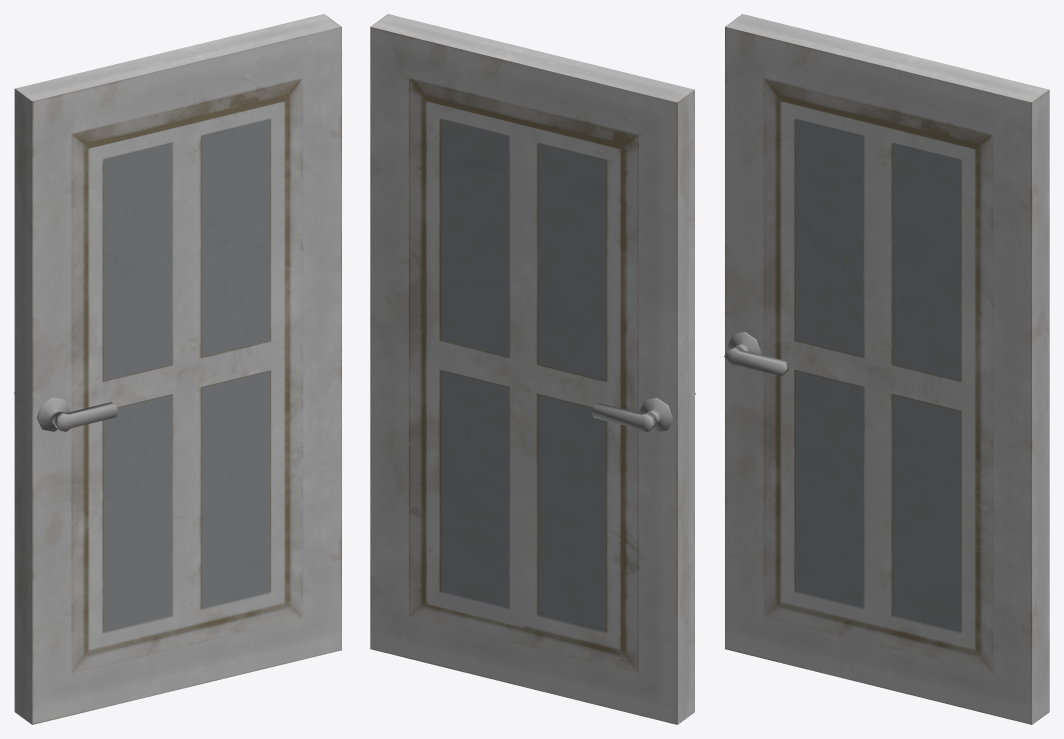
The model's file is ToiletDoor.fbx.
3 views of the same model, side by side, from view 1: azimuth 30°, elevation 25°; view 2: azimuth 150°, elevation 25°; view 3: azimuth 330°, elevation 25° (orthographic).
Visible parts, largest first — view 1: ToiletDoor_low; view 2: ToiletDoor_low; view 3: ToiletDoor_low.
Boxes of the visible parts, x1,y1,x2,y2 form: ToiletDoor_low: (14,14,341,724); ToiletDoor_low: (370,14,695,724); ToiletDoor_low: (724,14,1049,724).
Size of the model in its own units: 173 by 333 by 42.94.
Materials: 2 (2 with a texture image).
